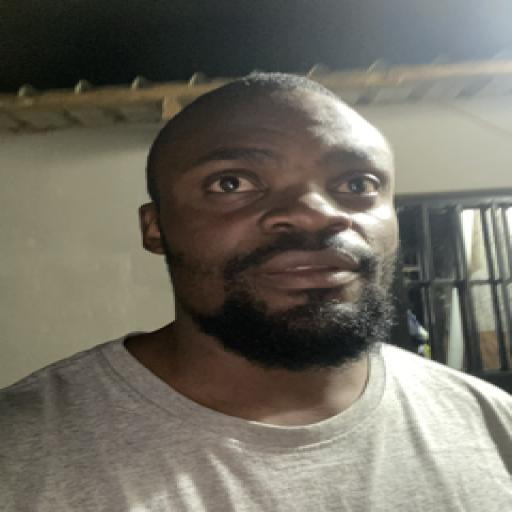JEANLUC: (120, 72, 426, 376)
